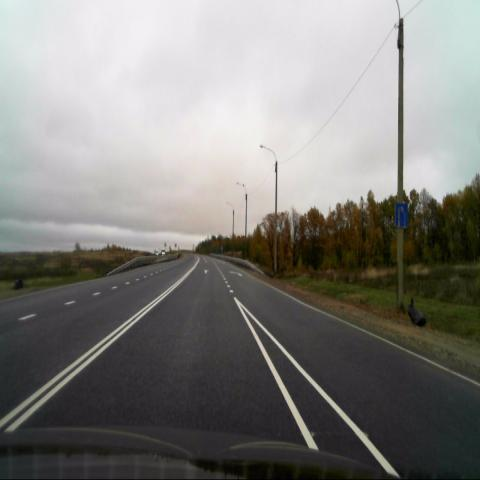5_15_5: (395, 205, 408, 228)
